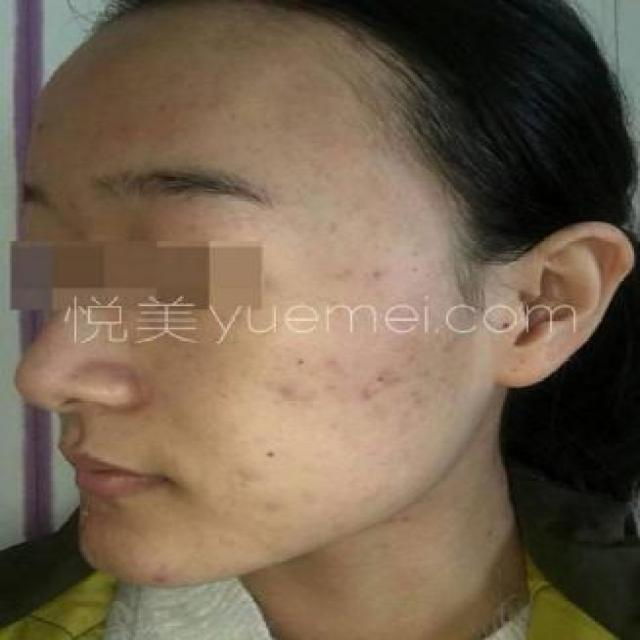blackheads: (254, 444, 288, 464), (288, 352, 321, 372)
dark spot: (356, 363, 403, 405), (270, 374, 303, 404), (319, 348, 348, 377), (317, 374, 346, 397), (145, 566, 178, 586), (364, 262, 390, 283)
